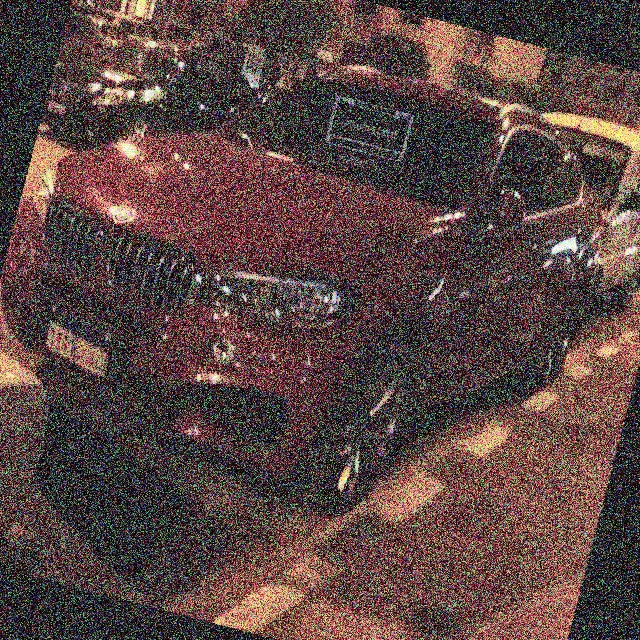License Plate: (32, 301, 122, 385)
